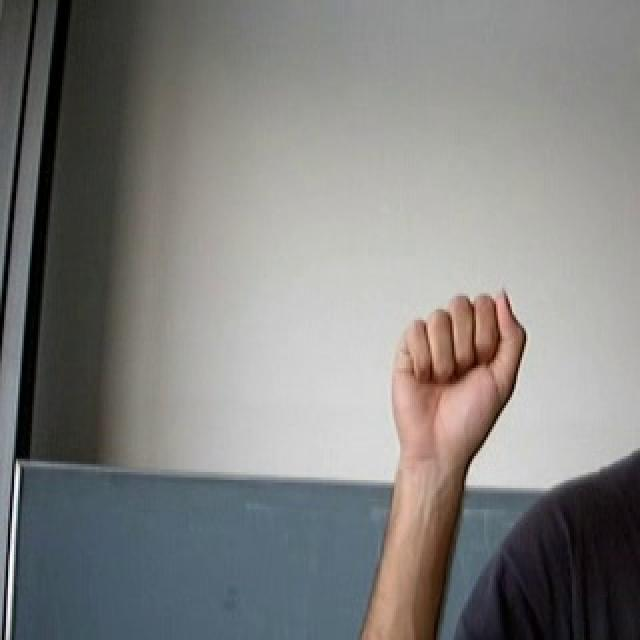A: (380, 269, 534, 470)
